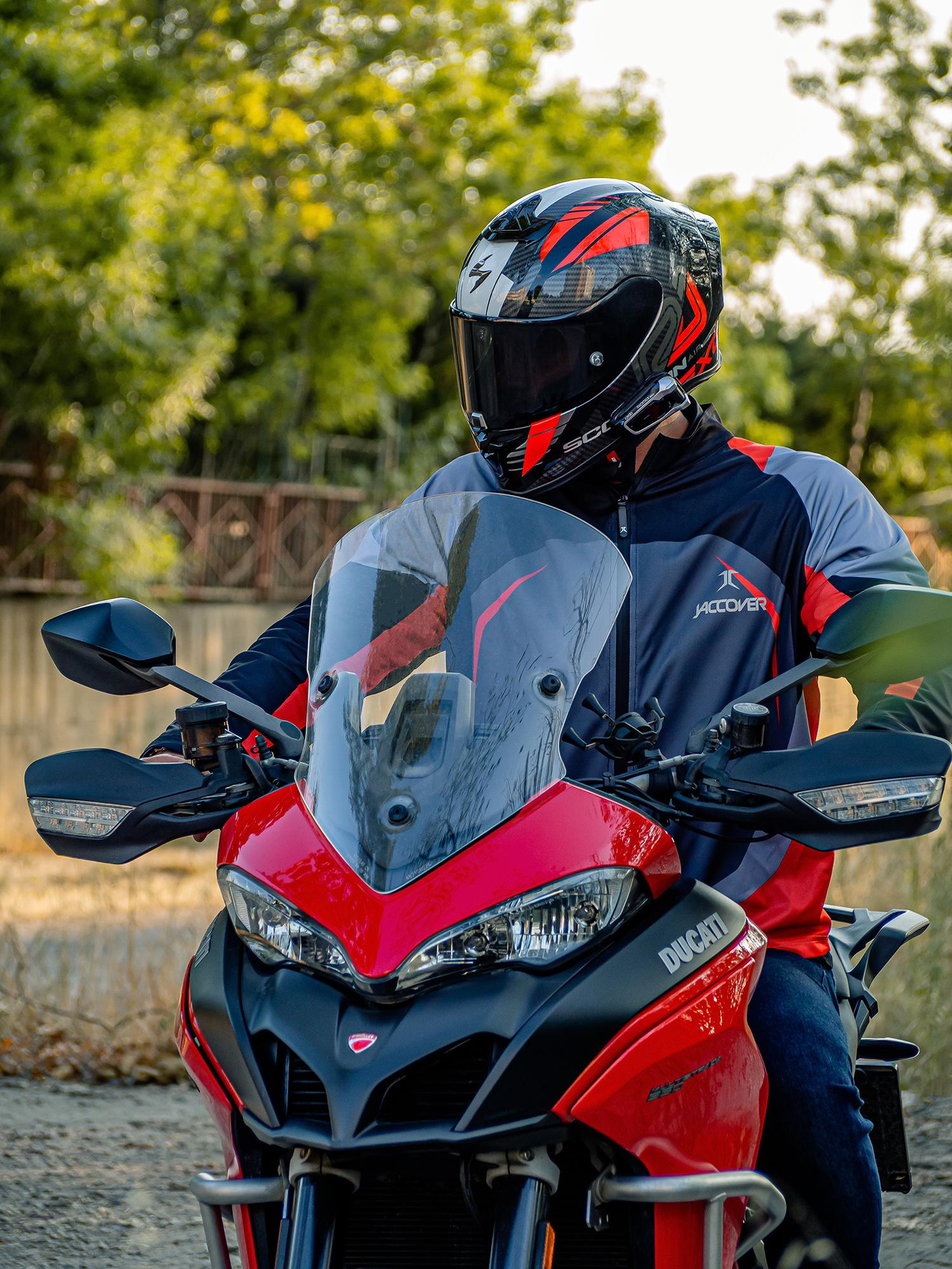helmet: (447, 175, 726, 499)
